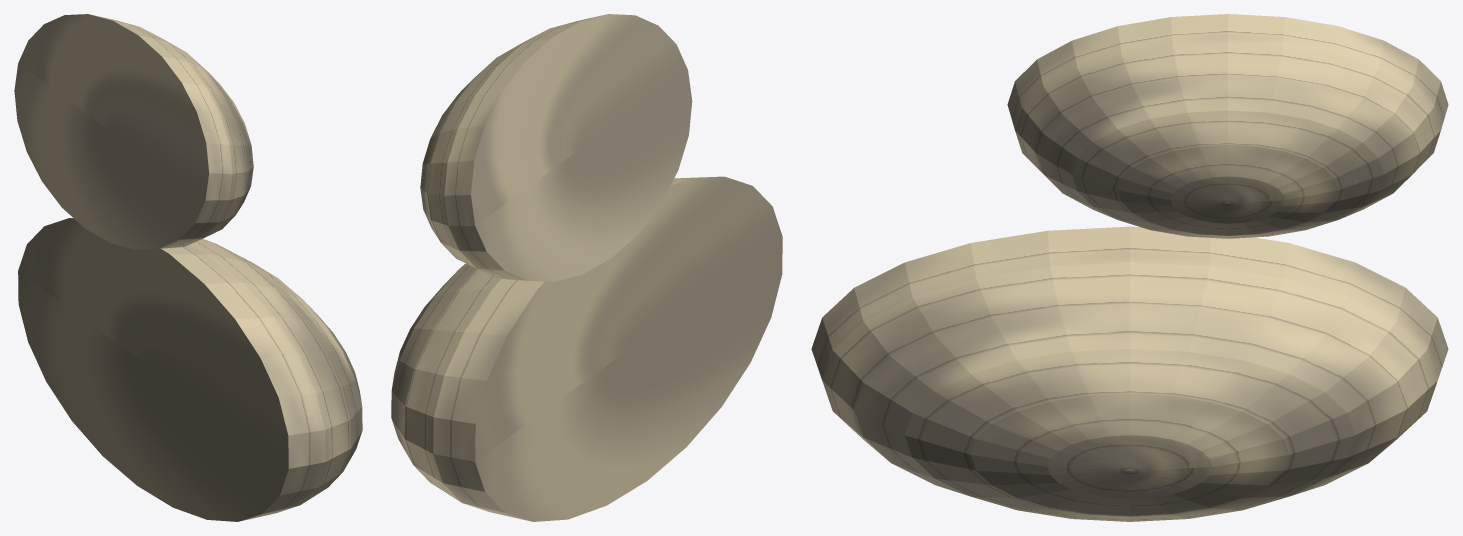
The model's file is bracket_fungus_v2.fbx.
The picture shows the model from 3 angles, left to right: view 1: azimuth 30°, elevation 25°; view 2: azimuth 150°, elevation 25°; view 3: azimuth 270°, elevation 25°; orthographic projection. The views are drawn at different scales.
Parts seen in each view (by area): view 1: bracket_fungus_v2; view 2: bracket_fungus_v2; view 3: bracket_fungus_v2.
Part boxes in pixels (x1,y1,x2,y2): bracket_fungus_v2: [14, 14, 362, 521]; bracket_fungus_v2: [391, 14, 782, 521]; bracket_fungus_v2: [811, 14, 1448, 521].
Size of the model in its own units: 10.38 by 21.86 by 26.
Materials: 1 (1 with a texture image).
